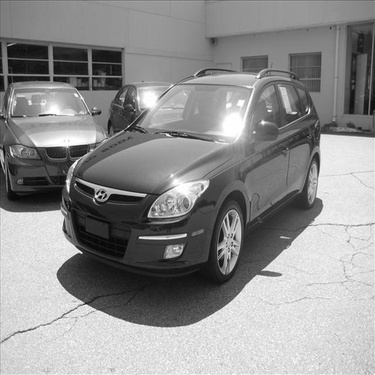car: (59, 67, 330, 290), (3, 80, 110, 199), (104, 80, 202, 142)
